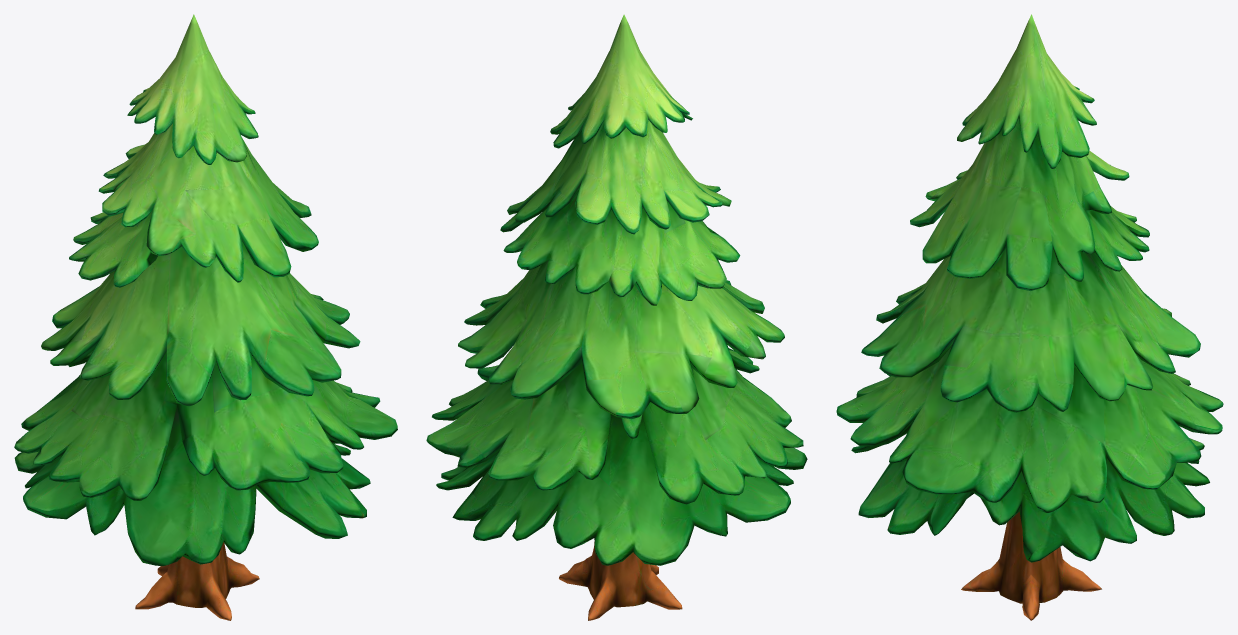
The model's file is tree-pine.glb.
3 views of the same model, side by side, from view 1: azimuth 30°, elevation 25°; view 2: azimuth 150°, elevation 25°; view 3: azimuth 270°, elevation 25° (orthographic).
Visible parts, largest first — view 1: tree-pine; view 2: tree-pine; view 3: tree-pine.
Boxes of the visible parts, x1,y1,x2,y2 form: tree-pine: (14, 14, 397, 620); tree-pine: (426, 14, 807, 620); tree-pine: (836, 14, 1223, 620).
Bounding box in the file's own units: 4.51 × 7.59 × 4.63.
Materials: 1 (1 with a texture image).
